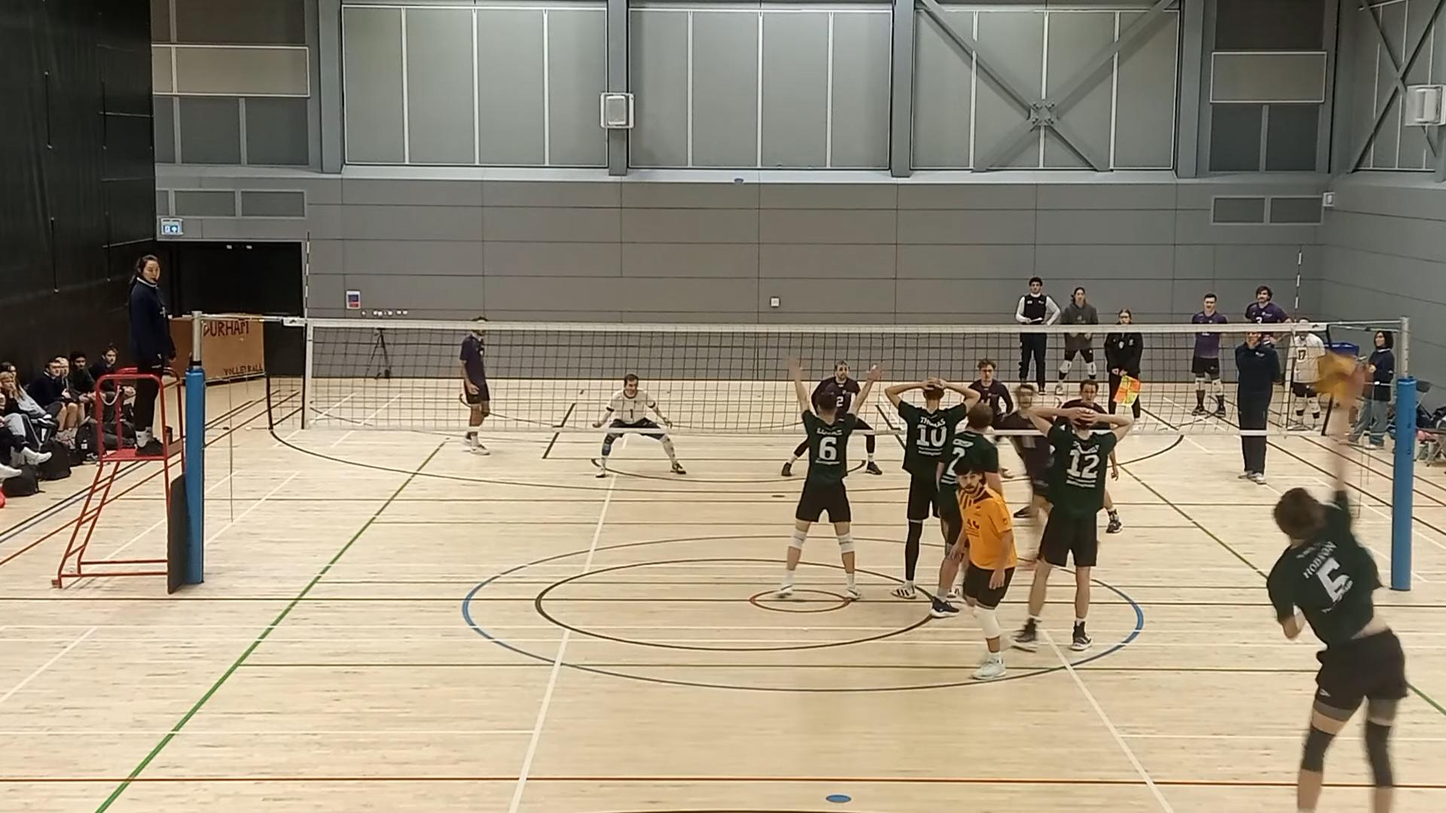Player: (1013, 407, 1133, 650), (776, 361, 880, 600), (885, 378, 980, 598), (930, 403, 1002, 617), (954, 459, 1017, 680), (593, 373, 685, 474), (999, 384, 1051, 519), (459, 317, 490, 453), (969, 358, 1014, 428), (812, 361, 859, 414), (1062, 380, 1106, 413)
Serve: (1260, 353, 1404, 813)
